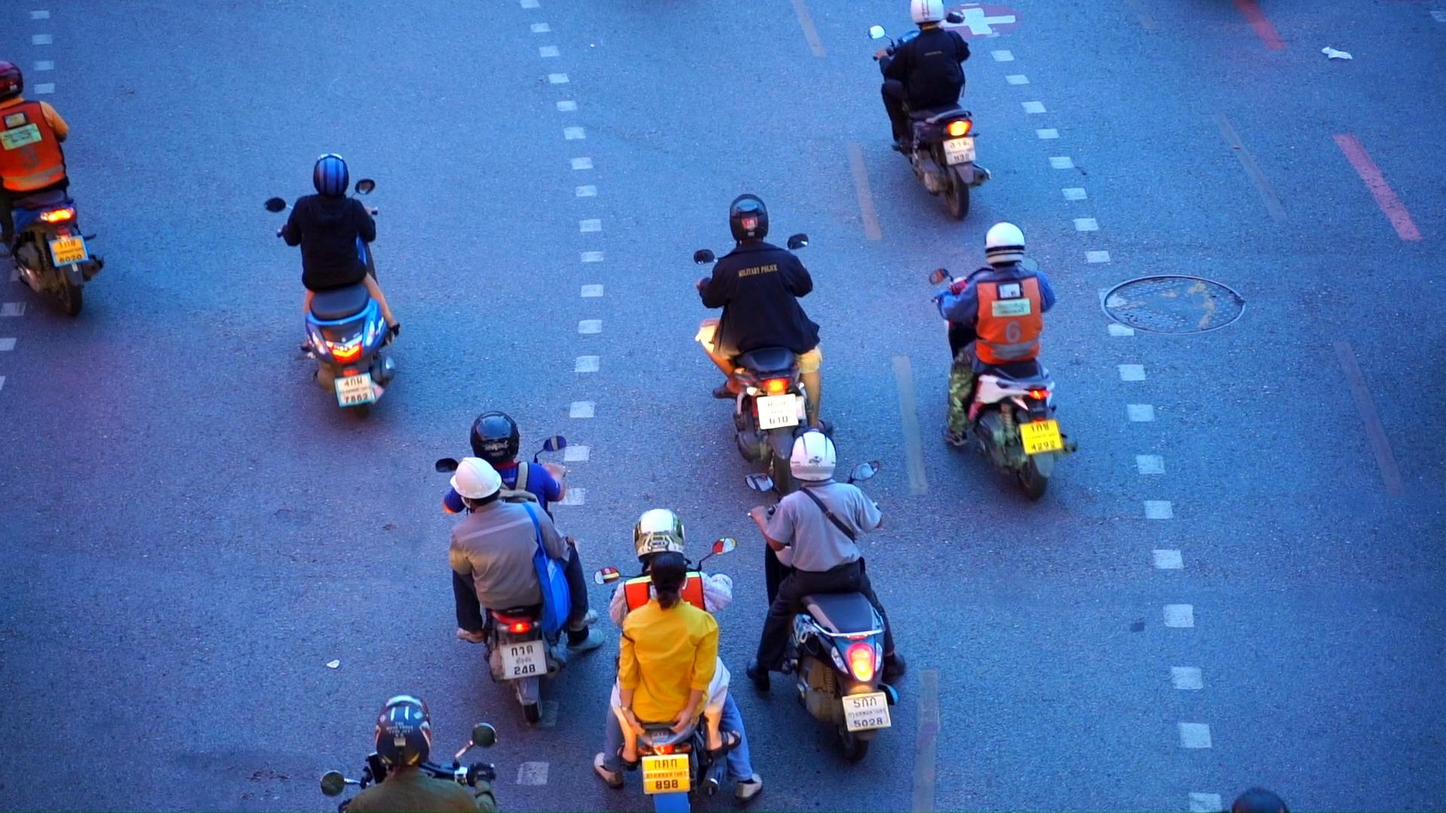driver: (744, 428, 907, 764), (436, 410, 605, 723), (593, 509, 763, 813), (693, 194, 833, 500), (929, 222, 1077, 501), (265, 152, 401, 421), (0, 59, 105, 318), (868, 0, 991, 219), (319, 693, 497, 813)
helmet: (374, 694, 433, 773), (449, 457, 502, 517), (633, 509, 686, 564), (470, 411, 520, 465), (789, 427, 837, 482), (729, 194, 769, 247), (984, 222, 1026, 268), (313, 152, 349, 199), (0, 60, 24, 102), (910, 0, 944, 25)
no-helmet: (651, 552, 688, 610)
